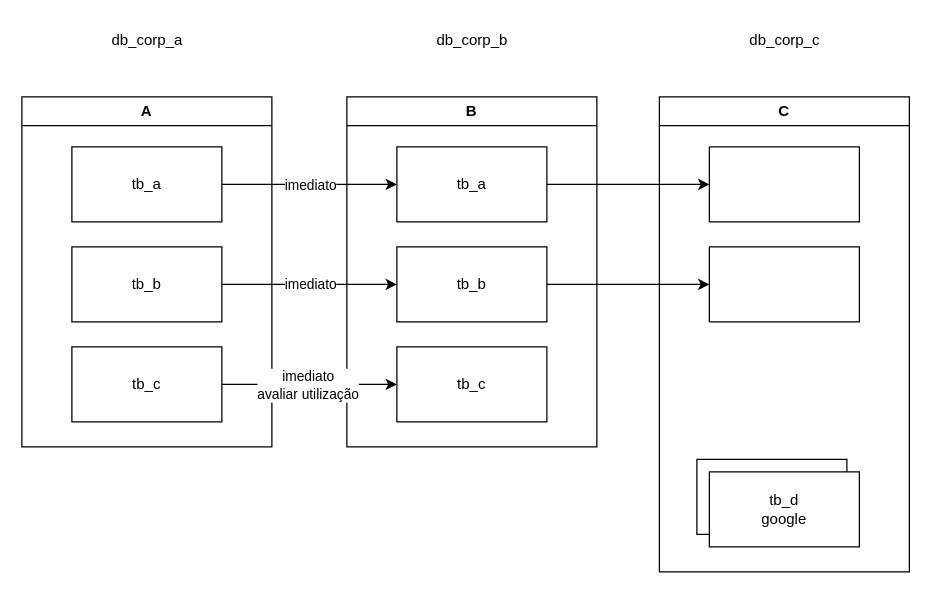
Image size: 931x594. Some labels were removed from this diagram. Each missing label, with the centre of its shape:
"tb_a com concorrentes" belongs at [783,184].
"tb_b com concorrentes" belongs at [783,284].
